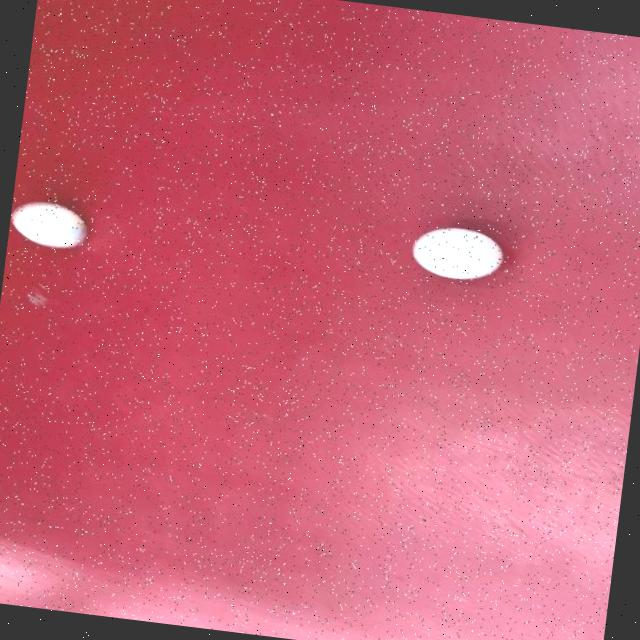ping-pong-ball: (406, 222, 508, 287), (7, 198, 92, 254)
